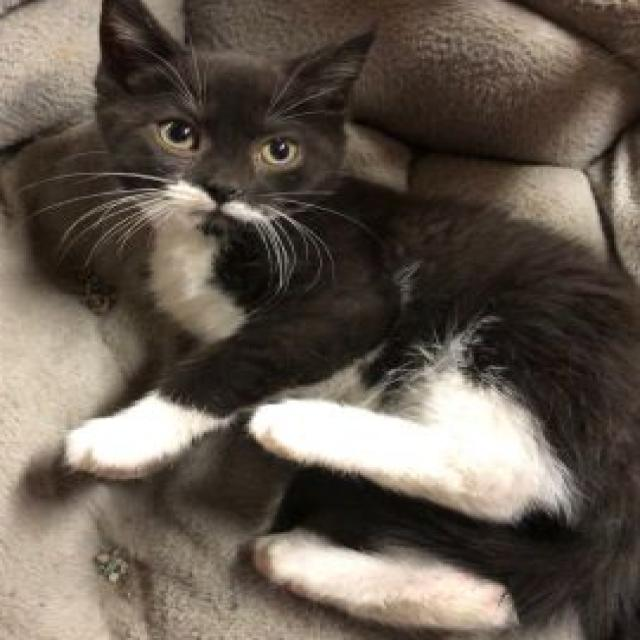Tuxedo: (57, 0, 640, 636)
